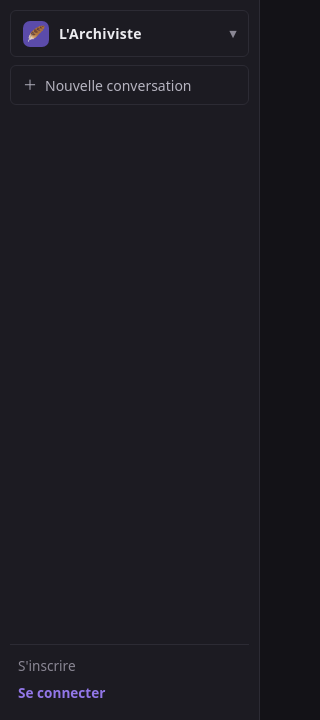
SidebarShell — brand button (#323) › gives each popover entry its own icon
The width and height of the screenshot is (320, 720).
Click the button "🪶 L'Archiviste ▾": (130, 34) [10,10,249,57]
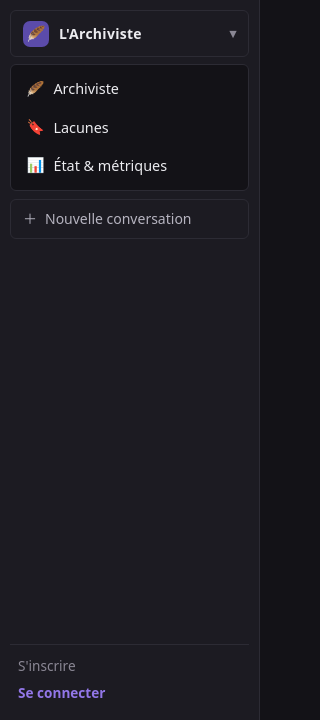
Result: the icon "🪶" is shown at [25,82,45,96]
Result: the icon "🔖" is shown at [25,120,45,134]
Result: the icon "📊" is shown at [25,158,45,172]
